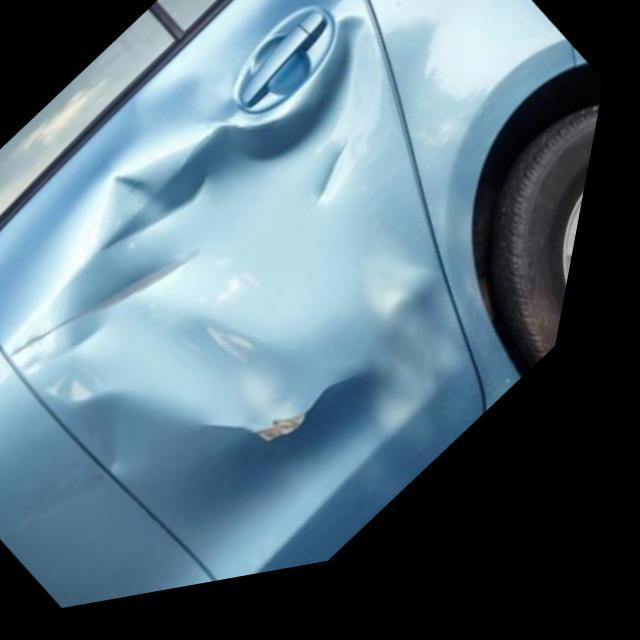dent: (13, 14, 456, 470)
